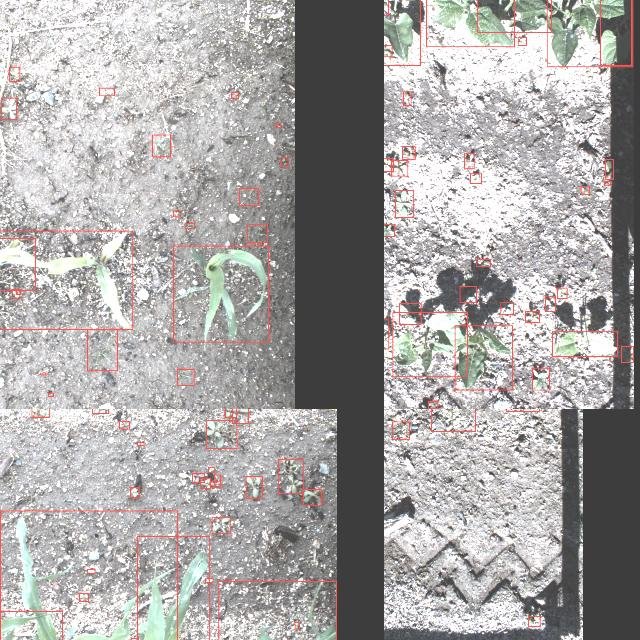crop: (0, 509, 177, 640), (0, 230, 132, 328), (174, 245, 268, 341), (137, 536, 209, 640), (218, 580, 336, 640), (547, 0, 633, 66), (392, 312, 466, 376), (426, 0, 514, 46), (454, 325, 512, 389), (477, 0, 551, 32), (384, 0, 419, 64), (600, 0, 631, 65), (0, 610, 61, 640), (0, 238, 34, 290), (552, 330, 618, 356)
weed: (87, 328, 117, 369), (431, 409, 475, 431), (206, 420, 236, 448), (278, 459, 302, 493), (394, 190, 414, 217), (400, 302, 420, 324), (152, 134, 170, 156), (532, 367, 550, 389), (247, 224, 267, 242), (246, 476, 262, 498), (1, 97, 16, 119), (302, 488, 322, 504), (240, 188, 258, 205), (176, 368, 194, 384), (211, 517, 229, 533), (459, 286, 476, 302), (391, 160, 407, 176), (392, 422, 408, 438), (231, 409, 248, 423), (621, 345, 633, 361), (8, 66, 20, 80), (525, 310, 539, 322), (605, 159, 613, 179), (501, 302, 514, 314), (402, 146, 414, 158), (545, 296, 555, 310), (464, 154, 474, 168), (31, 409, 48, 417), (98, 87, 114, 95), (192, 472, 204, 482), (528, 616, 540, 626), (476, 258, 490, 266), (402, 91, 410, 105), (384, 224, 393, 236), (384, 157, 392, 170), (470, 173, 480, 183), (557, 288, 567, 298), (129, 487, 139, 497), (200, 477, 210, 487), (224, 409, 235, 417), (11, 288, 19, 298), (427, 400, 437, 408), (78, 593, 88, 601), (384, 44, 391, 55), (280, 157, 288, 166), (581, 185, 589, 193), (518, 37, 526, 45), (184, 222, 194, 228), (214, 474, 220, 484), (118, 422, 128, 428), (92, 409, 108, 412), (210, 482, 220, 486), (232, 92, 238, 98), (173, 210, 179, 216), (294, 622, 300, 628), (208, 466, 214, 472), (86, 568, 94, 572), (205, 578, 212, 582), (16, 288, 20, 294), (604, 180, 610, 184), (130, 637, 137, 640), (48, 392, 52, 396), (276, 123, 280, 127), (137, 442, 143, 444), (40, 372, 44, 374)
